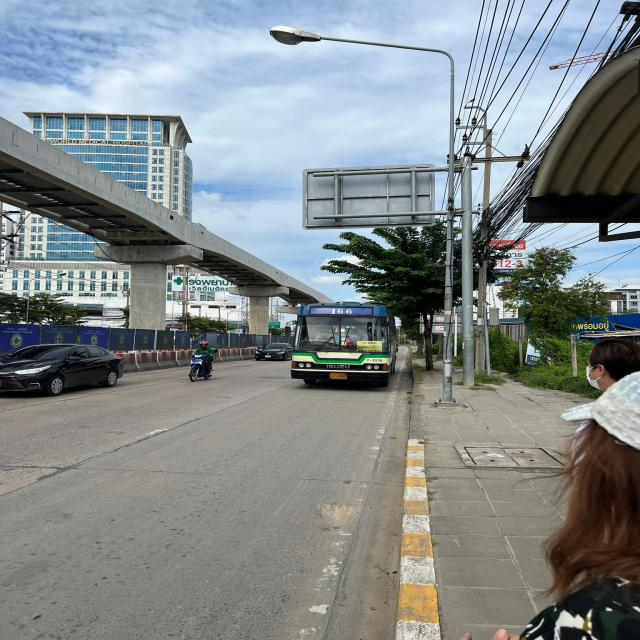BMTA-bus: (290, 300, 398, 388)
Bus-Line-Number: (328, 307, 356, 316)
Destination-Sign-Normal-Expressway: (356, 339, 384, 352)
